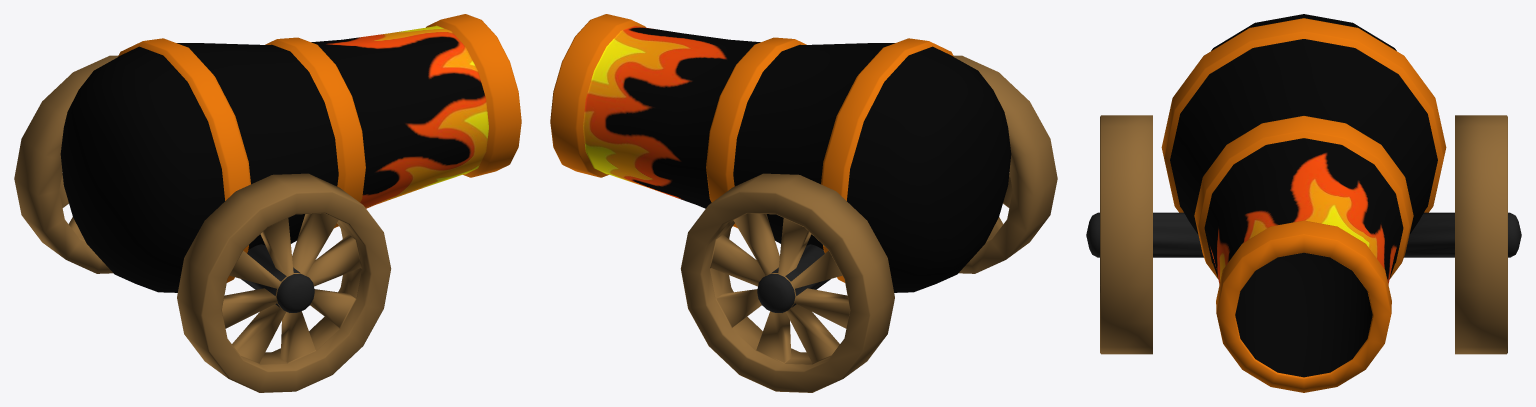
The model's file is Cannon.fbx.
3 views of the same model, side by side, from view 1: azimuth 30°, elevation 25°; view 2: azimuth 150°, elevation 25°; view 3: azimuth 270°, elevation 25° (orthographic). The views are drawn at different scales.
Parts seen in each view (by area): view 1: Cannon, Wheel; view 2: Cannon, Wheel; view 3: Cannon, Wheel.
Boxes of the visible parts, bbox=[...] form: Cannon: bbox=[60, 14, 521, 292]; Wheel: bbox=[14, 55, 391, 392]; Cannon: bbox=[550, 14, 1011, 292]; Wheel: bbox=[680, 55, 1057, 392]; Cannon: bbox=[1161, 14, 1446, 392]; Wheel: bbox=[1086, 115, 1521, 354].
Bounding box in the file's own units: 609 × 413 × 532.
4 materials, 1 textured.
